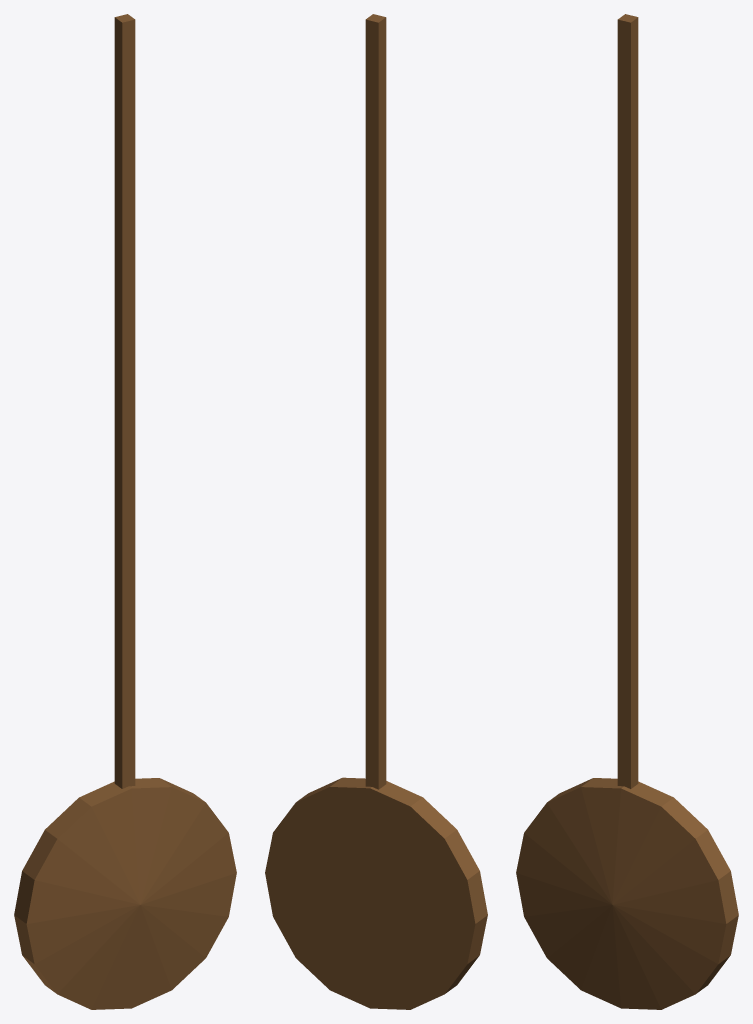
The model's file is pendulo.obj.
3 views of the same model, side by side, from view 1: azimuth 30°, elevation 25°; view 2: azimuth 150°, elevation 25°; view 3: azimuth 330°, elevation 25° (orthographic).
Visible parts, largest first — view 1: pendulo:pendulum_clocktexture; view 2: pendulo:pendulum_clocktexture; view 3: pendulo:pendulum_clocktexture.
Boxes of the visible parts, box(x1,y1,x2,y2) form: pendulo:pendulum_clocktexture: box(14, 14, 236, 1009); pendulo:pendulum_clocktexture: box(265, 14, 487, 1009); pendulo:pendulum_clocktexture: box(516, 14, 738, 1009).
Bounding box in the file's own units: 0.7663 × 3.43 × 0.134.
1 material, 1 textured.
